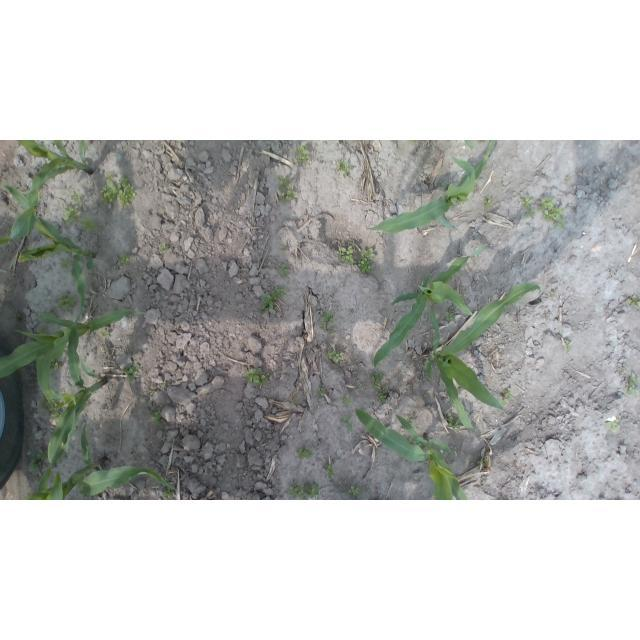Maize: (423, 283, 542, 430), (373, 245, 488, 370), (5, 182, 97, 334), (36, 316, 107, 500), (368, 141, 496, 234), (25, 421, 175, 500), (354, 408, 468, 500), (1, 309, 150, 379), (0, 140, 92, 249), (464, 141, 474, 150)
Weeds: (96, 171, 136, 209), (538, 197, 565, 229), (260, 286, 289, 315), (39, 397, 63, 422), (277, 175, 298, 201), (243, 369, 270, 388), (288, 484, 320, 500), (357, 248, 376, 274), (62, 204, 83, 226), (55, 292, 77, 312), (520, 196, 536, 220), (335, 158, 352, 180), (626, 372, 640, 396), (80, 216, 101, 232), (446, 411, 464, 429), (122, 364, 141, 381), (337, 245, 353, 264), (296, 144, 310, 164), (152, 408, 165, 429), (326, 351, 345, 363), (605, 419, 621, 433), (370, 372, 384, 388), (324, 462, 337, 479), (69, 190, 83, 204), (340, 416, 353, 431), (376, 388, 388, 404), (501, 387, 512, 404), (320, 313, 337, 324), (118, 251, 131, 265), (297, 446, 312, 458), (28, 459, 40, 473), (347, 485, 361, 497), (36, 448, 49, 460), (55, 452, 67, 465), (443, 309, 455, 322), (60, 259, 73, 270), (630, 293, 640, 307), (50, 358, 61, 370), (163, 487, 173, 499), (340, 394, 352, 404), (280, 264, 289, 276), (484, 196, 493, 208), (405, 417, 415, 427), (619, 364, 630, 373), (39, 323, 48, 333), (564, 339, 572, 350), (477, 458, 487, 466), (315, 388, 325, 395), (355, 385, 363, 392), (160, 244, 167, 252), (438, 180, 445, 188), (100, 330, 109, 336), (83, 400, 89, 409), (319, 323, 325, 331), (327, 328, 333, 336), (36, 476, 41, 484), (550, 290, 556, 296), (564, 176, 571, 181), (290, 399, 296, 404), (409, 140, 416, 144), (391, 140, 397, 144), (479, 140, 487, 142)
